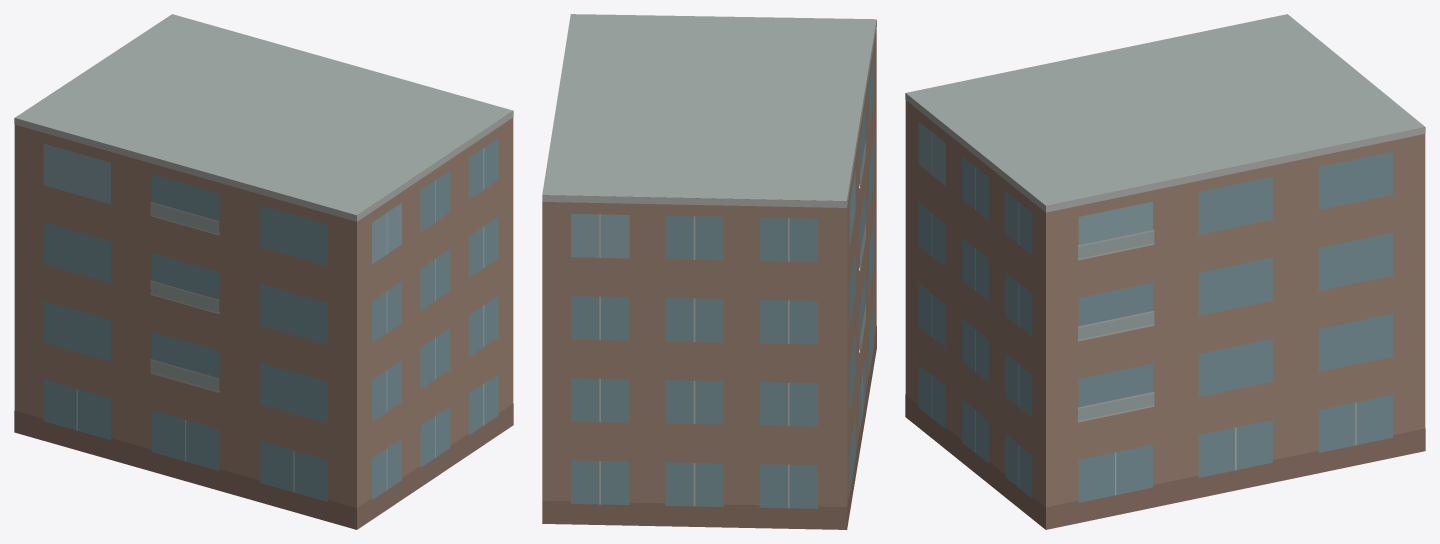
The model's file is survey-upis-32745995.glb.
3 renders of one model, left to right at view 1: azimuth 30°, elevation 25°; view 2: azimuth 150°, elevation 25°; view 3: azimuth 270°, elevation 25°, orthographic. The views are drawn at different scales.
Visible parts, largest first — view 1: survey-upis-32745995.tmp; view 2: survey-upis-32745995.tmp; view 3: survey-upis-32745995.tmp.
Part boxes in pixels (x1=…): survey-upis-32745995.tmp: x1=14, y1=14, x2=513, y2=529; survey-upis-32745995.tmp: x1=542, y1=14, x2=876, y2=529; survey-upis-32745995.tmp: x1=905, y1=14, x2=1425, y2=529.
Bounding box in the file's own units: 14.73 × 11.6 × 16.88.
